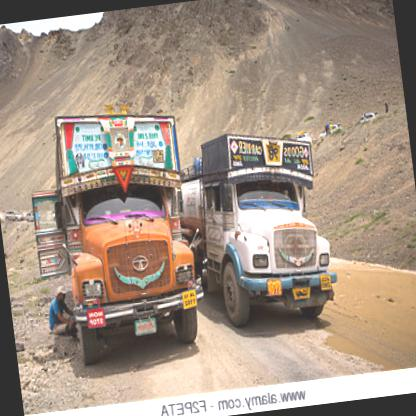truck: (45, 109, 207, 368), (171, 123, 342, 331)
